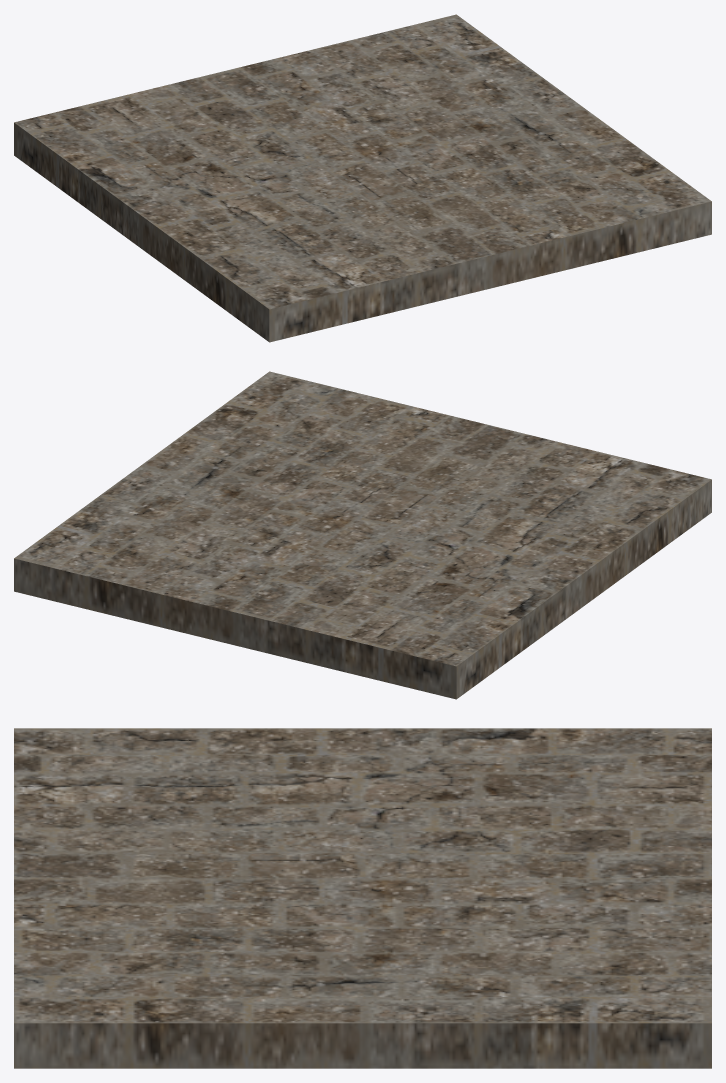
File: SM_Modular_CeilingFlat_01a.gltf
3 renders of one model, top to bottom at view 1: azimuth 30°, elevation 25°; view 2: azimuth 150°, elevation 25°; view 3: azimuth 270°, elevation 25°, orthographic. The views are drawn at different scales.
Parts seen in each view (by area): view 1: SM_Modular_CeilingFlat_01a; view 2: SM_Modular_CeilingFlat_01a; view 3: SM_Modular_CeilingFlat_01a.
Part boxes in pixels (<box>): SM_Modular_CeilingFlat_01a: <box>14,14,711,342</box>; SM_Modular_CeilingFlat_01a: <box>14,371,711,699</box>; SM_Modular_CeilingFlat_01a: <box>14,728,711,1068</box>.
Bounding box in the file's own units: 7 × 0.5 × 7.
1 material, 1 textured.
